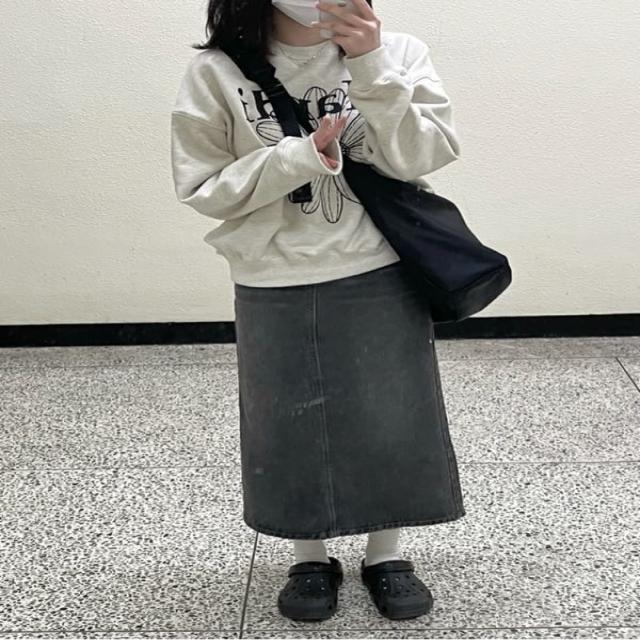mtm: (169, 23, 462, 286)
skirt: (238, 256, 470, 537)
